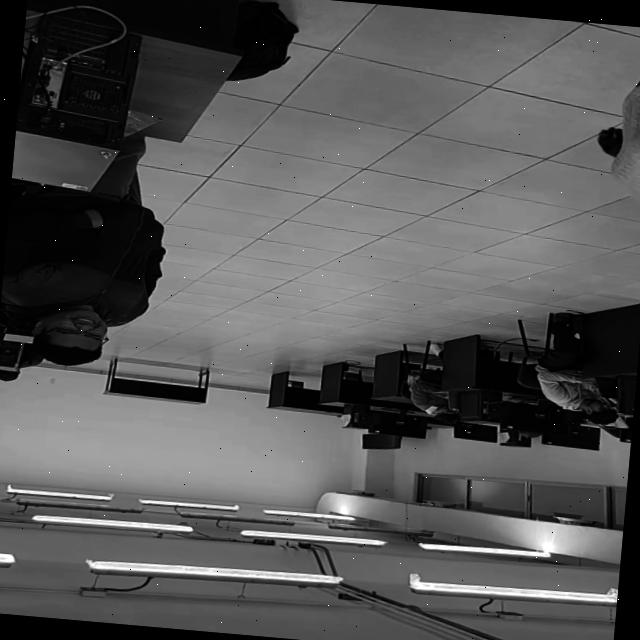Persona: (0, 107, 170, 382)
